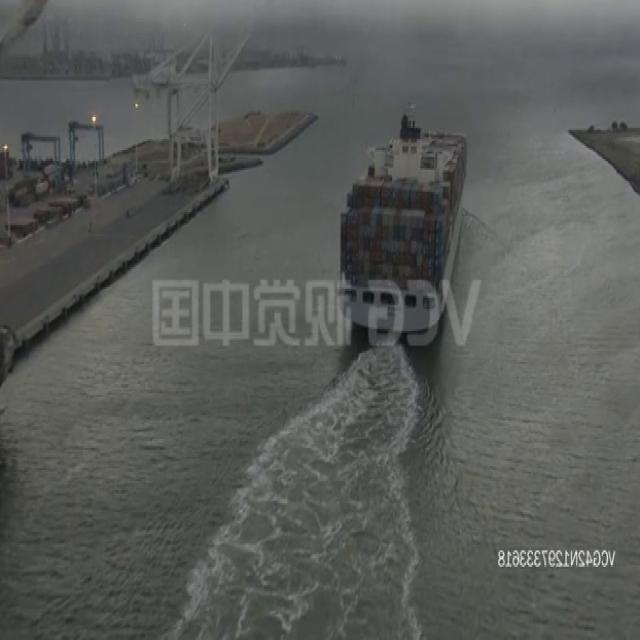cargoship: (336, 104, 468, 337)
